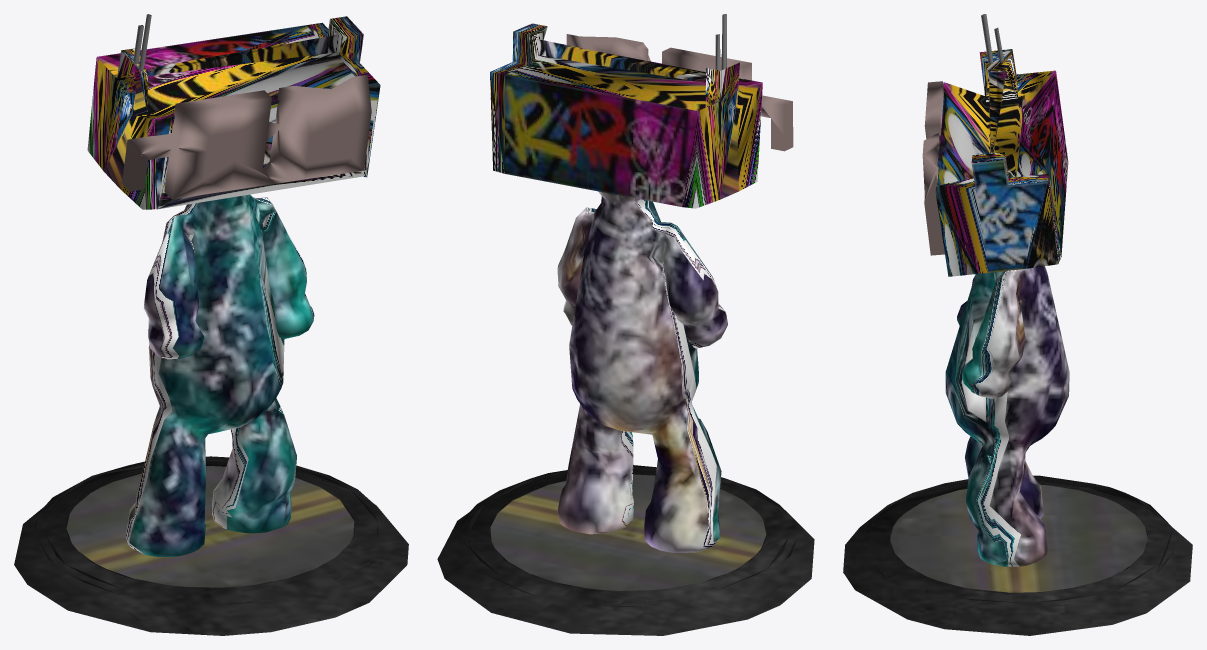
The picture shows the model from 3 angles, left to right: view 1: azimuth 30°, elevation 25°; view 2: azimuth 150°, elevation 25°; view 3: azimuth 270°, elevation 25°; orthographic projection. The views are drawn at different scales.
Bounding box in the file's own units: 1.44 × 2.29 × 1.42.
Materials: 6 (5 with a texture image).
